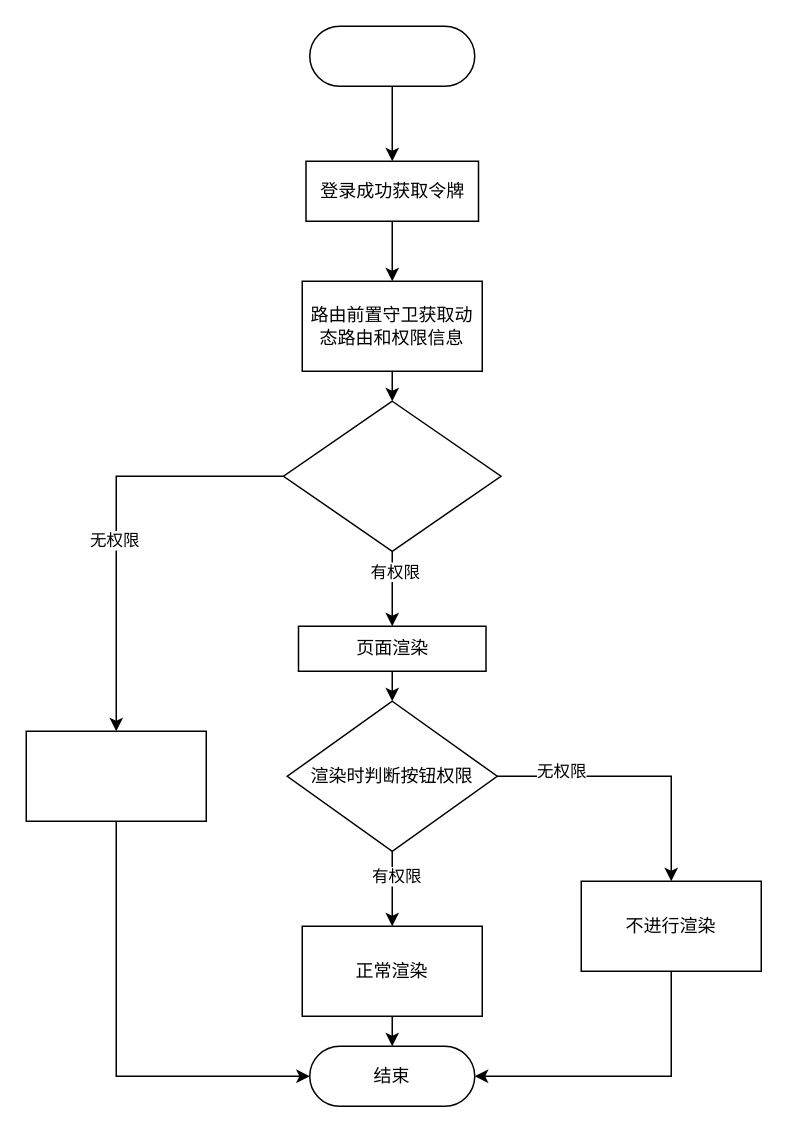
The diagram is 788 pixels wide and 1133 high, and some of its shapes have lost their labels. The shapes that lost their labels are listed below. From the top down, each one's box as (x1, y1, x2, y2) in pixels, then its label:
(308, 25, 475, 86): 开始
(282, 400, 501, 551): 前置守卫判断当前 访问的路由是否在权限信息当中
(25, 730, 206, 821): 导航到404页面
